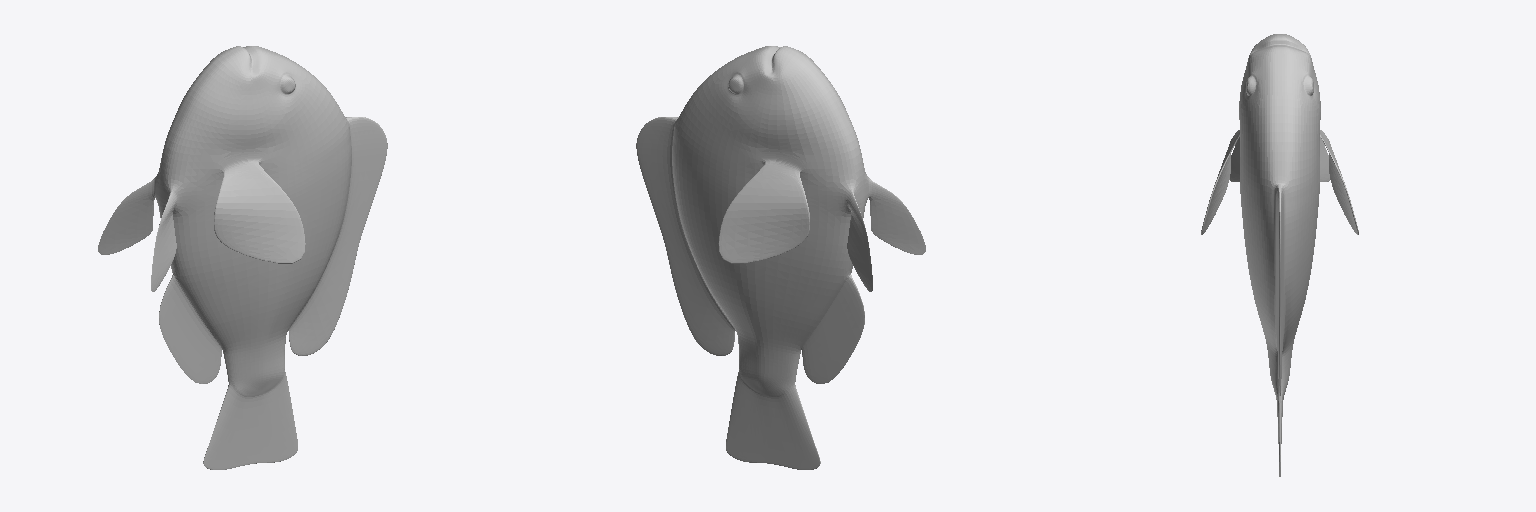
The model's file is fisi7.obj.
The picture shows the model from 3 angles: view 1: azimuth 30°, elevation 25°; view 2: azimuth 150°, elevation 25°; view 3: azimuth 270°, elevation 25°; orthographic projection.
Visible parts, largest first — view 1: 12265_Fish_v1_L2; view 2: 12265_Fish_v1_L2; view 3: 12265_Fish_v1_L2.
Boxes of the visible parts, box(x1,y1,x2,y2) form: 12265_Fish_v1_L2: box(98, 46, 387, 469); 12265_Fish_v1_L2: box(636, 46, 925, 469); 12265_Fish_v1_L2: box(1201, 34, 1358, 476).
Bounding box in the file's own units: 2.24 × 3.44 × 1.16.